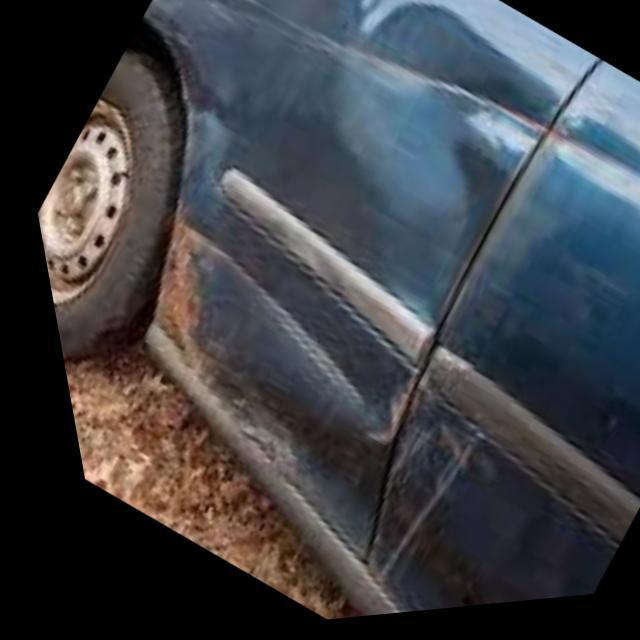crack: (130, 189, 294, 486)
dent: (209, 0, 640, 189)
rub: (187, 219, 471, 595)
